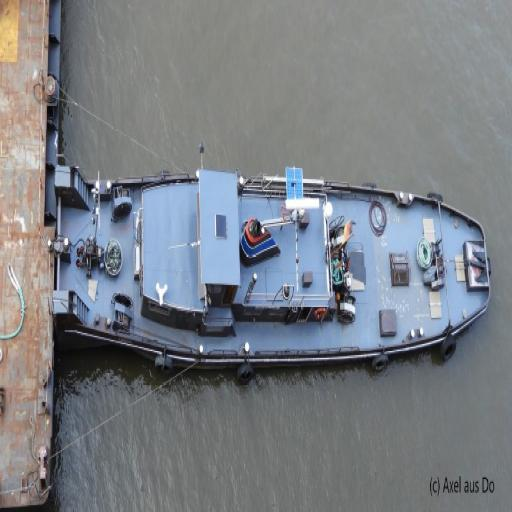tugboat: (43, 155, 495, 377)
